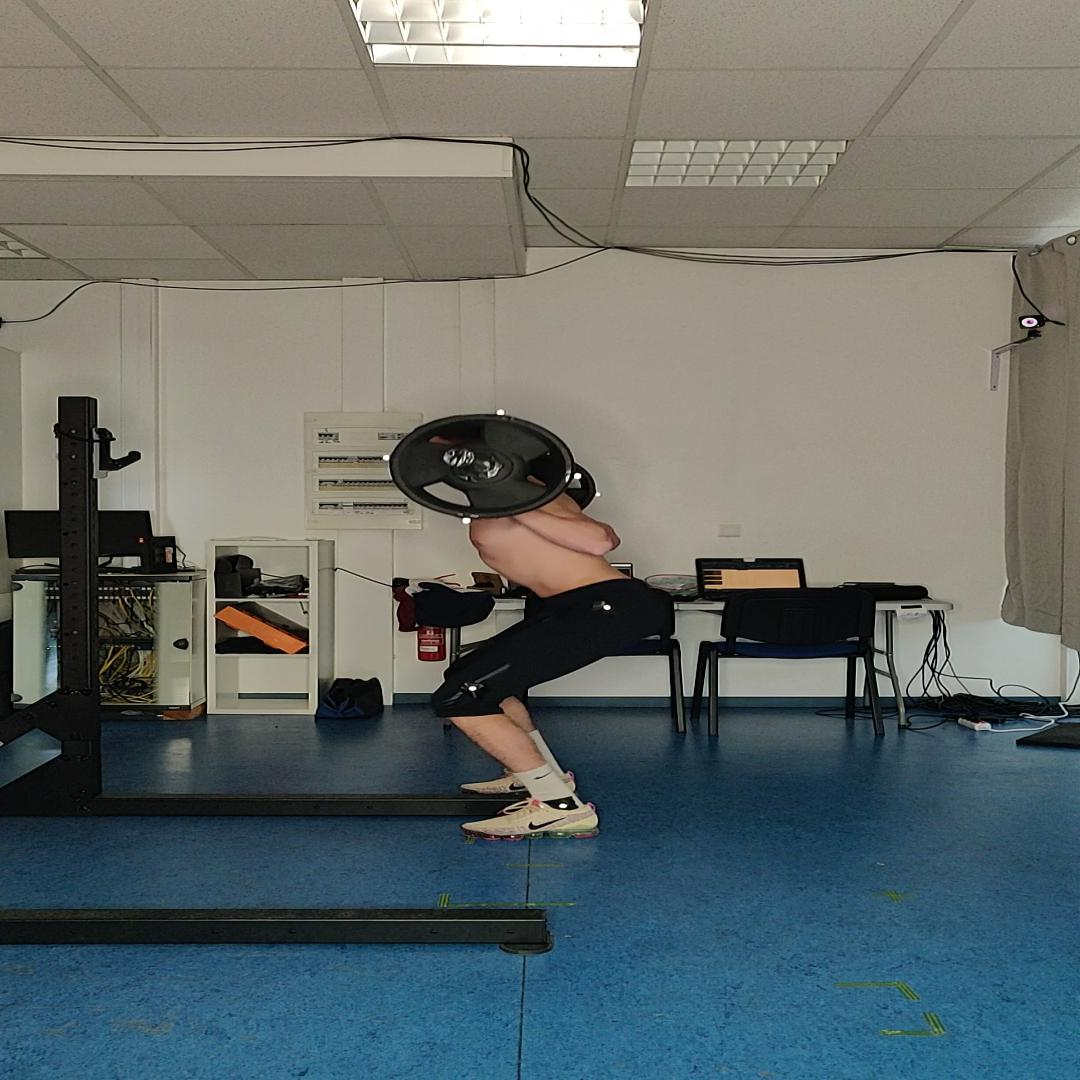Barbell: (388, 414, 576, 519), (442, 448, 476, 468)
